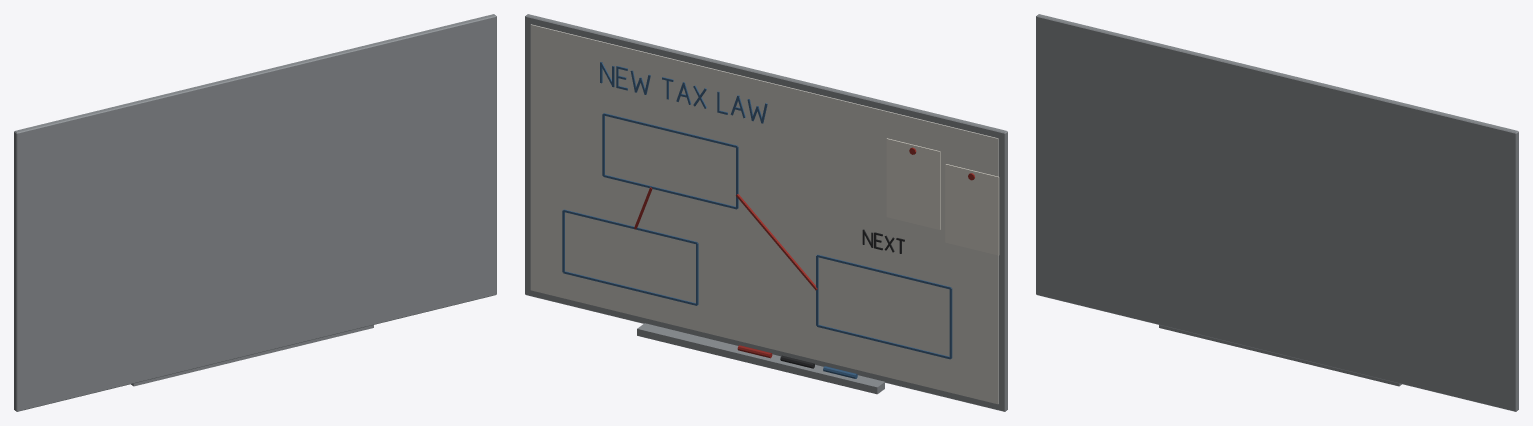
Rendered from prop_whiteboard.glb.
3 renders of one model, left to right at view 1: azimuth 30°, elevation 25°; view 2: azimuth 150°, elevation 25°; view 3: azimuth 330°, elevation 25°, orthographic.
Parts seen in each view (by area): view 1: Whiteboard; view 2: Whiteboard; view 3: Whiteboard.
Part boxes in pixels (box(x1,y1,x2,y2)): Whiteboard: box(14, 14, 496, 411); Whiteboard: box(525, 14, 1007, 411); Whiteboard: box(1036, 14, 1518, 411).
Size of the model in its own units: 1.8 by 1.02 by 0.07.
